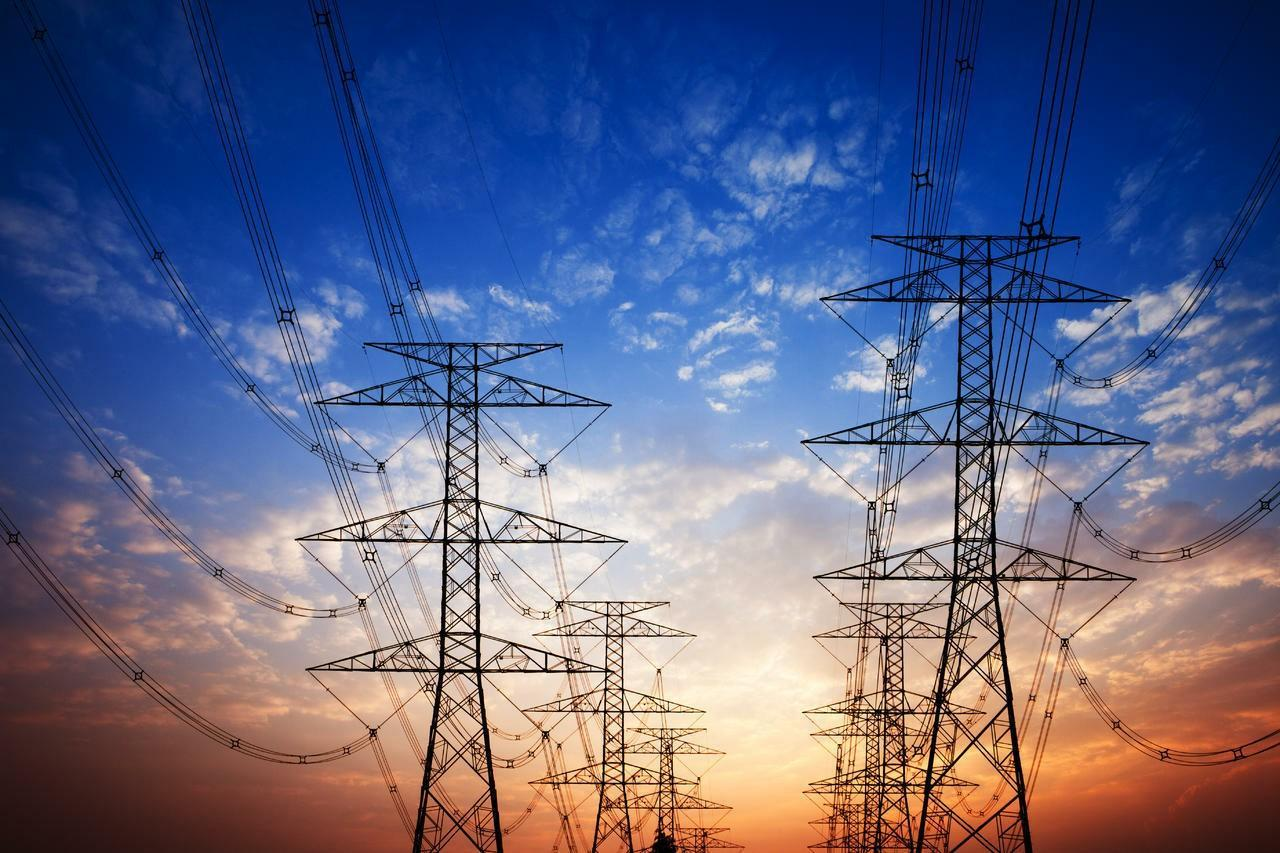power_tower: (786, 205, 1075, 853), (326, 288, 603, 844), (540, 583, 701, 853)
